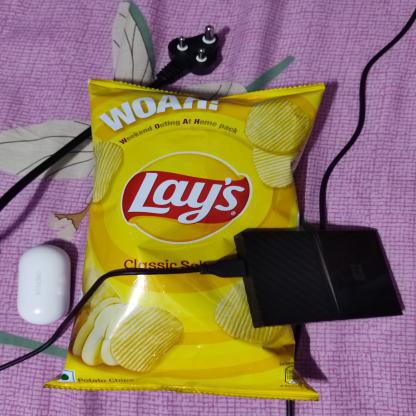classicsalted: (45, 76, 325, 401)
